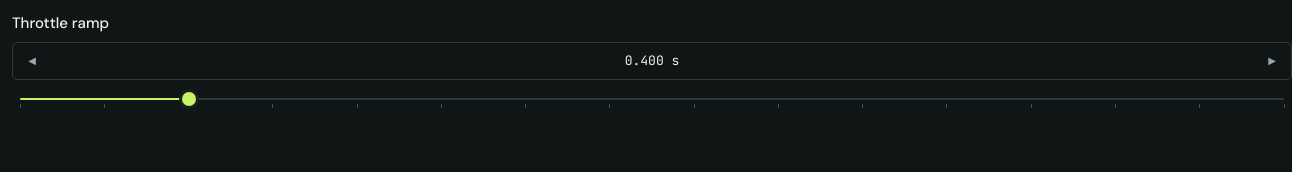
LeverWidget › click-to-type: Enter commits a valid value, an invalid one reverts without a change
Click the button with test id "lever-value-throttle_ramp". click: (652, 61)
box: [51,47,1253,75]
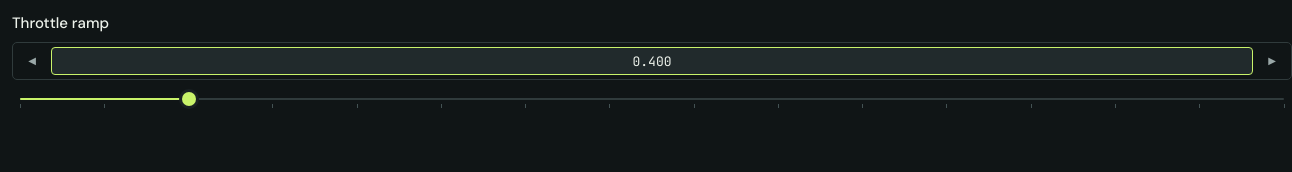
Result: the field with test id "lever-input-throttle_ramp" holds "0.400"
Replace the text in the field with test id "lever-input-throttle_ramp" with "1.2". click: (652, 61)
box: [51,47,1253,75]
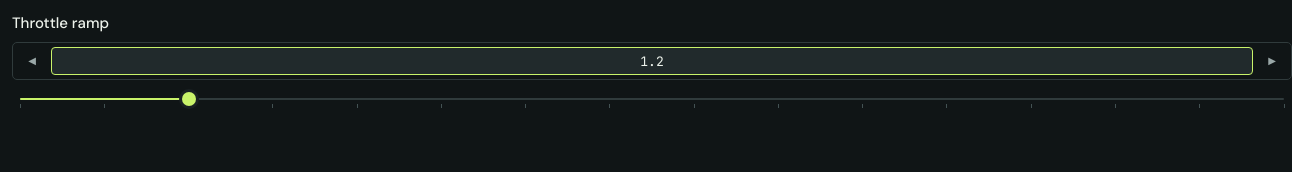
Press Enter in the field with test id "lever-input-throttle_ramp", box [51,47,1253,75]
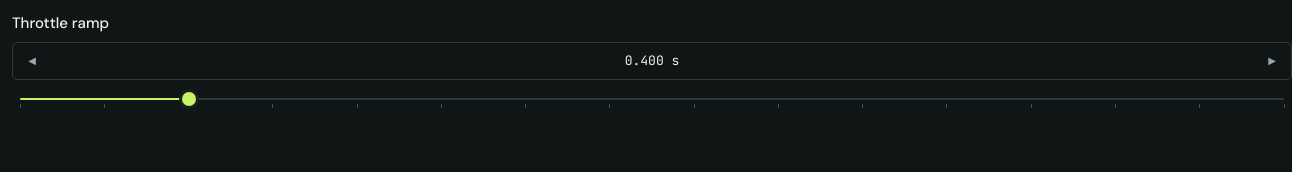
Click the button with test id "lever-value-throttle_ramp". click: (652, 61)
box: [51,47,1253,75]
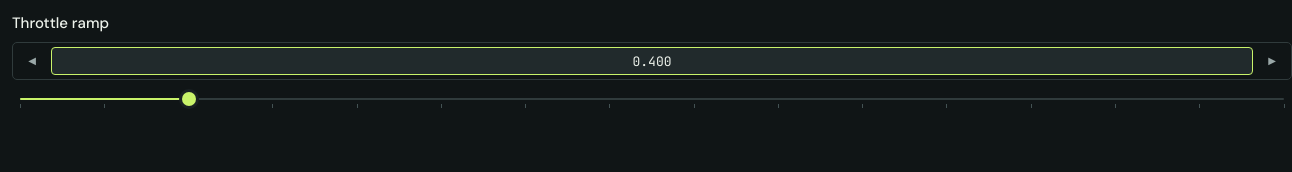
Replace the text in the field with test id "lever-input-throttle_ramp" with "0.5". click: (652, 61)
box: [51,47,1253,75]
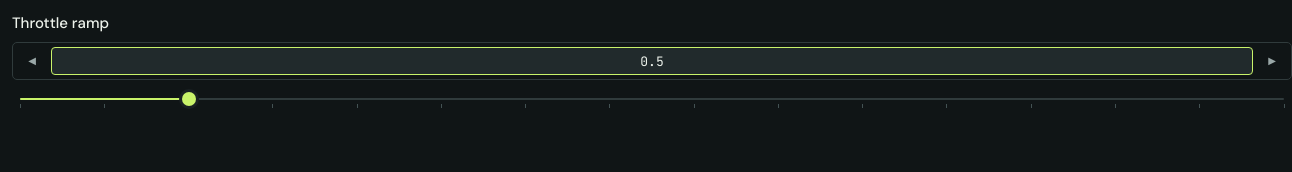
Press Enter in the field with test id "lever-input-throttle_ramp", box [51,47,1253,75]
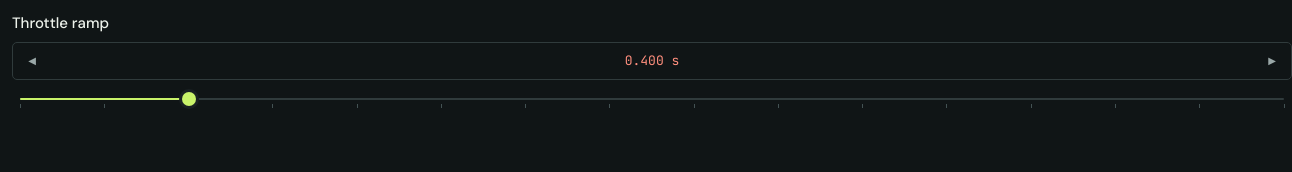
Result: the button with test id "lever-value-throttle_ramp" reads "0.400 s" at [51,47,1253,75]
